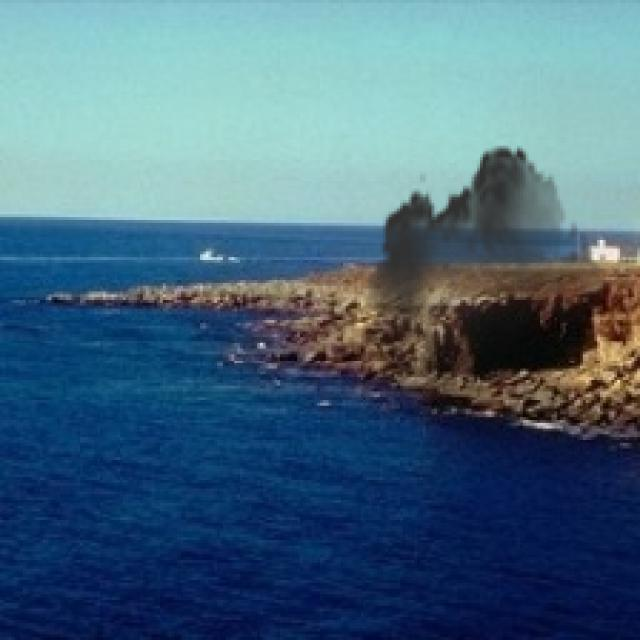Smoke: (360, 134, 614, 414)
